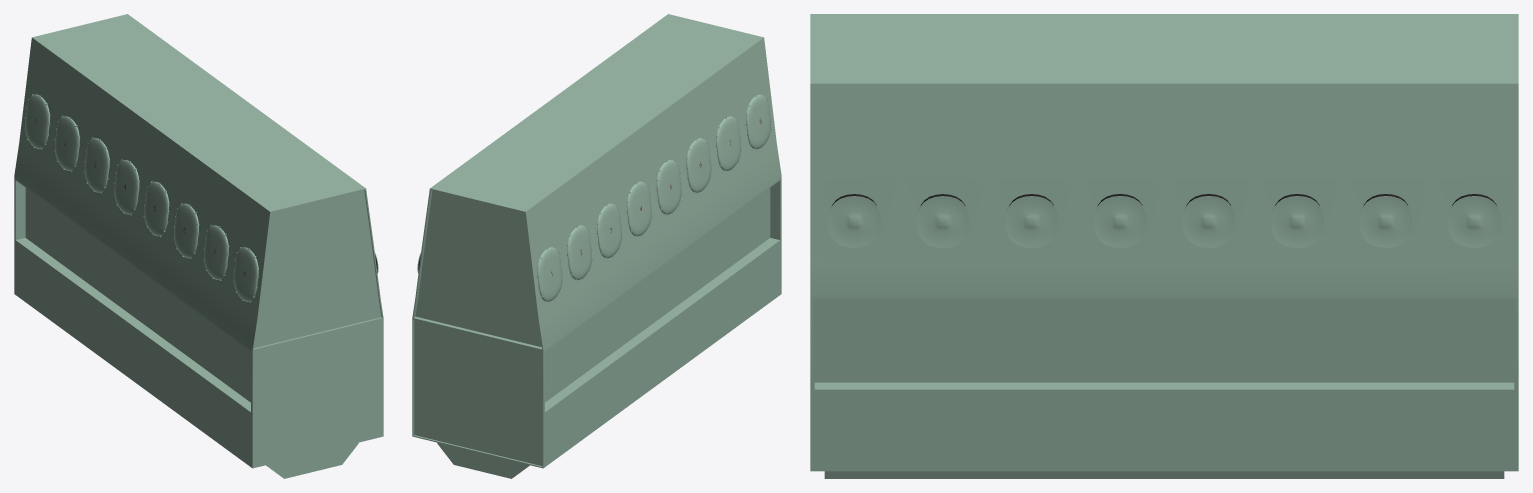
File: engineBlock.fbx
3 views of the same model, side by side, from view 1: azimuth 30°, elevation 25°; view 2: azimuth 150°, elevation 25°; view 3: azimuth 270°, elevation 25° (orthographic). The views are drawn at different scales.
Visible parts, largest first — view 1: engineBlock; view 2: engineBlock; view 3: engineBlock.
Part boxes in pixels (x1,y1,x2,y2): engineBlock: (14, 14, 383, 478); engineBlock: (412, 14, 781, 478); engineBlock: (810, 14, 1518, 478).
Bounding box in the file's own units: 404 × 796 × 1250.
Materials: 1 (1 with a texture image).
